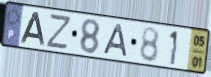1: (168, 29, 180, 67)
8: (77, 18, 102, 56), (138, 25, 160, 64)
A: (19, 10, 47, 48), (102, 23, 129, 59)
Z: (44, 14, 74, 52)
